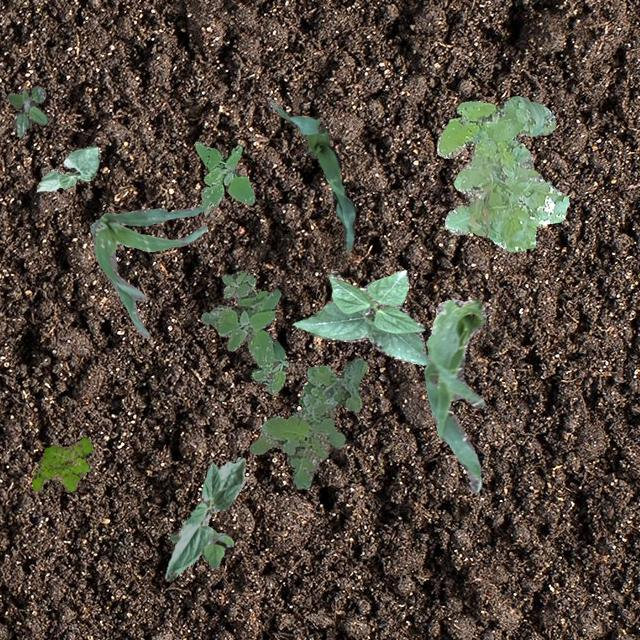crop: (90, 204, 206, 336), (292, 268, 428, 364), (270, 102, 354, 250), (424, 298, 484, 492), (163, 456, 244, 580), (36, 144, 100, 192)
weed: (436, 95, 568, 252), (248, 357, 366, 488), (200, 270, 288, 394), (192, 140, 255, 213), (32, 436, 92, 492), (168, 528, 232, 568), (6, 84, 46, 136)
